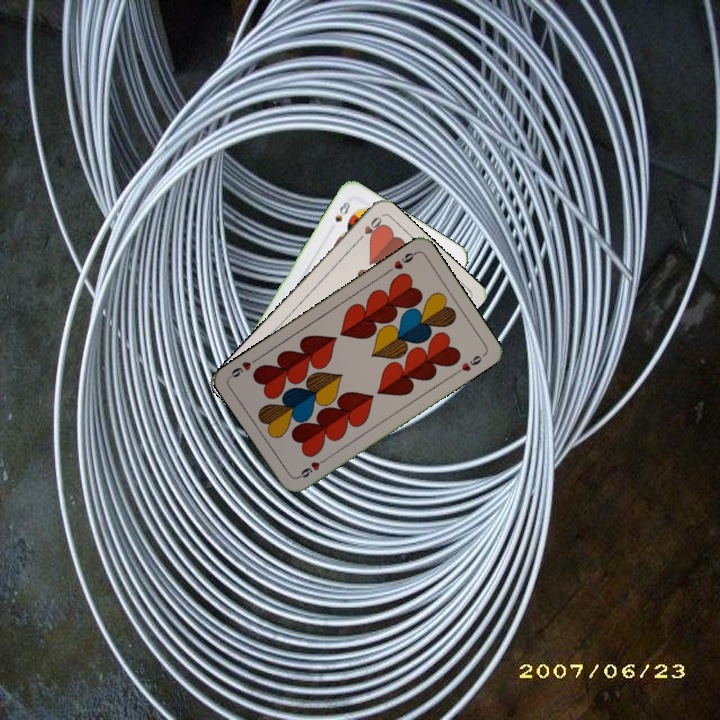H9: (383, 248, 419, 275), (294, 454, 330, 481)
HO: (353, 212, 384, 245)
S8: (331, 197, 353, 225)
